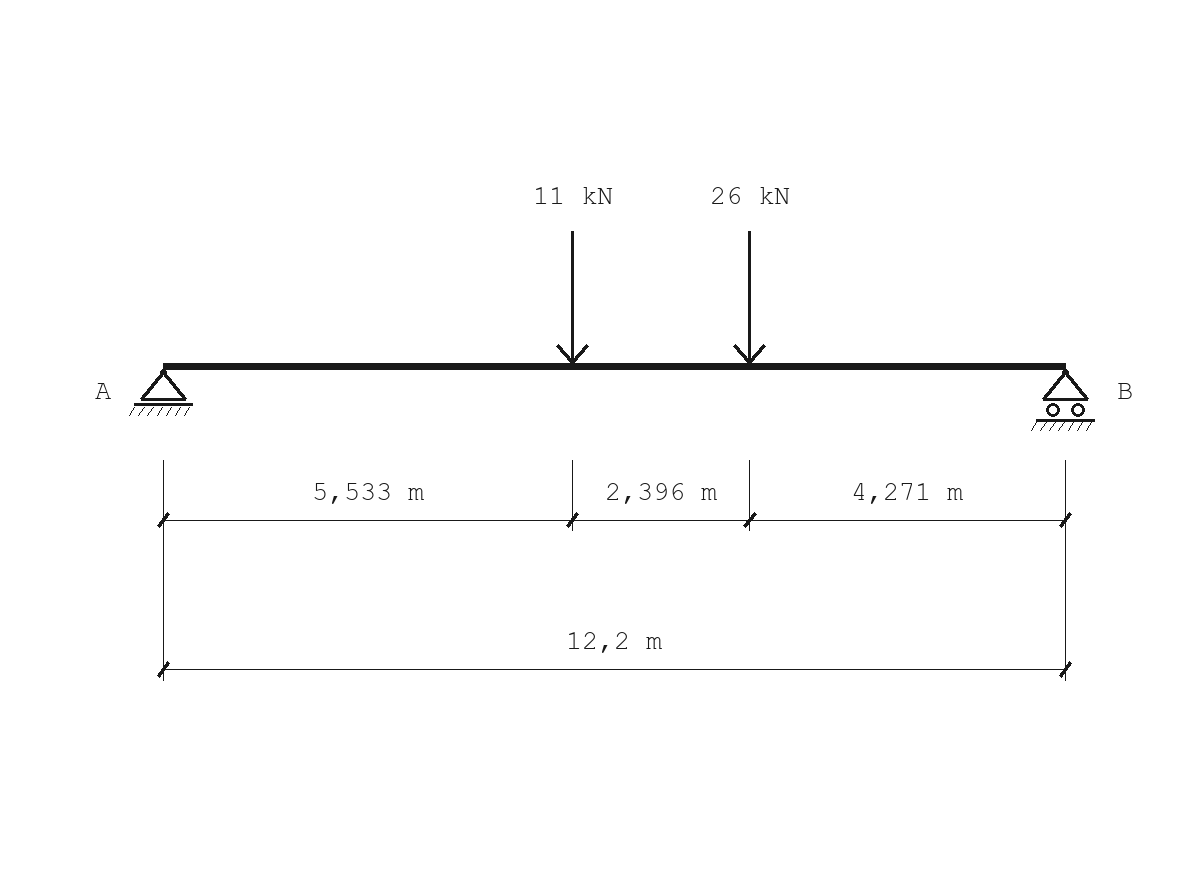pin_support: (129, 369, 193, 416)
point_load: (556, 231, 589, 364), (733, 231, 766, 364)
roller_support: (1031, 369, 1095, 431)
